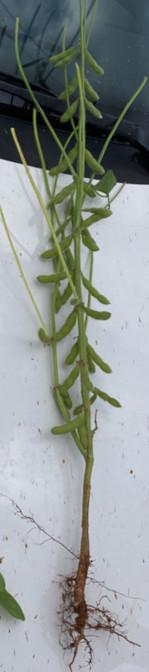soja: (86, 335, 118, 374), (42, 414, 93, 437), (47, 143, 79, 175), (86, 272, 116, 306), (30, 265, 82, 284), (51, 313, 77, 347), (50, 48, 88, 71), (69, 397, 110, 418), (37, 239, 72, 263), (94, 385, 127, 410), (48, 36, 78, 62), (61, 361, 87, 391), (55, 74, 82, 102), (79, 72, 103, 103), (55, 100, 84, 125), (45, 184, 76, 207), (79, 221, 99, 255), (58, 339, 81, 367), (82, 98, 105, 125), (80, 306, 117, 322), (87, 48, 108, 76), (33, 319, 53, 348), (44, 220, 70, 242), (85, 151, 106, 176), (82, 346, 97, 380), (81, 205, 112, 221), (79, 177, 99, 201), (54, 392, 70, 422), (59, 381, 76, 407), (59, 280, 74, 307), (79, 416, 89, 451)
